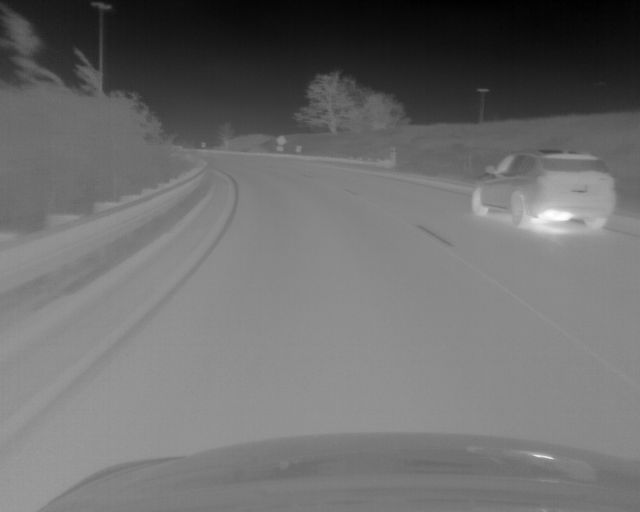car: (470, 148, 617, 232)
